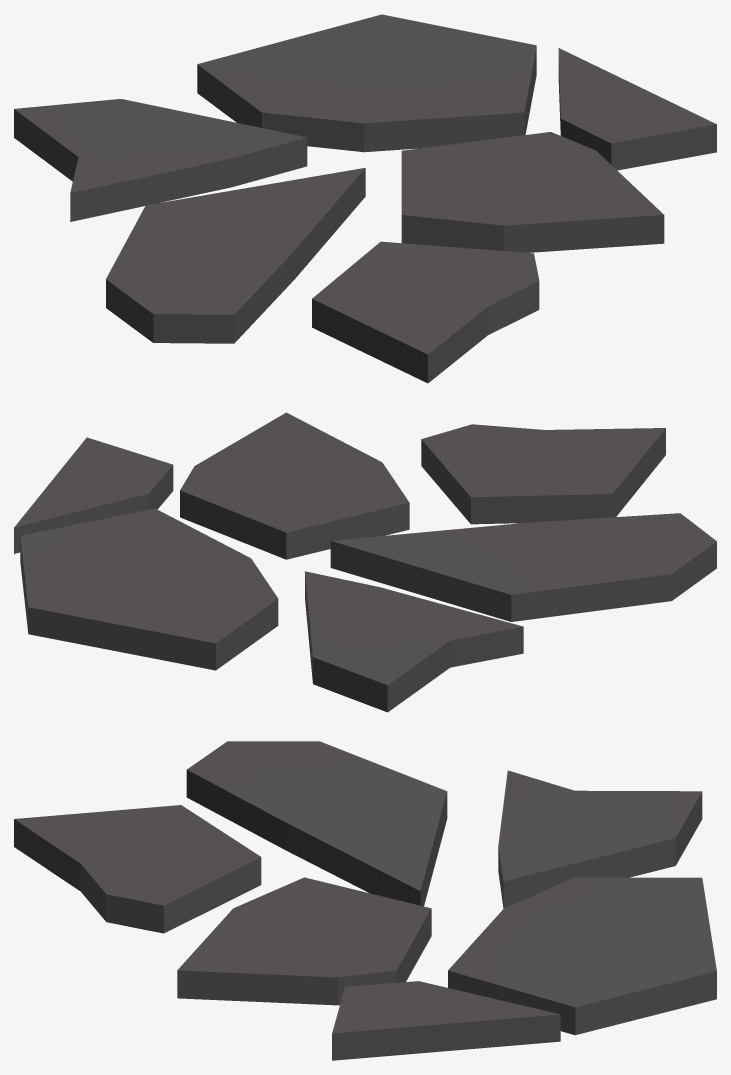
The model's file is stones.fbx.
3 renders of one model, top to bottom at view 1: azimuth 30°, elevation 25°; view 2: azimuth 150°, elevation 25°; view 3: azimuth 270°, elevation 25°, orthographic. The views are drawn at different scales.
Parts seen in each view (by area): view 1: bricks_; view 2: bricks_; view 3: bricks_.
Boxes of the visible parts, <box> form: bricks_: <box>14,14,716,383</box>; bricks_: <box>14,412,716,712</box>; bricks_: <box>14,741,716,1060</box>.
Size of the model in its own units: 4.71 by 0.2297 by 4.79.
Materials: 1 (1 with a texture image).
